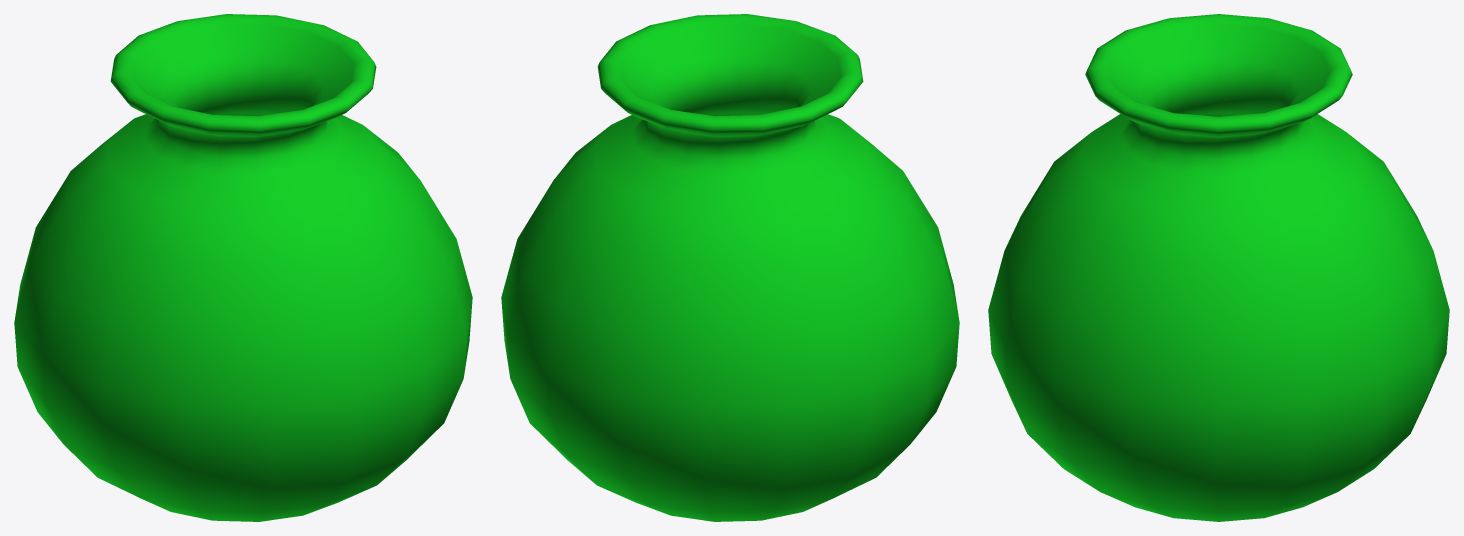
File: Krug_var4.obj
The picture shows the model from 3 angles, left to right: view 1: azimuth 30°, elevation 25°; view 2: azimuth 150°, elevation 25°; view 3: azimuth 270°, elevation 25°; orthographic projection.
Parts seen in each view (by area): view 1: Krug_3; view 2: Krug_3; view 3: Krug_3.
Part boxes in pixels (x1,y1,x2,y2): Krug_3: (14, 14, 472, 521); Krug_3: (501, 14, 959, 521); Krug_3: (988, 14, 1449, 521).
Bounding box in the file's own units: 0.4045 × 0.4096 × 0.4045.
